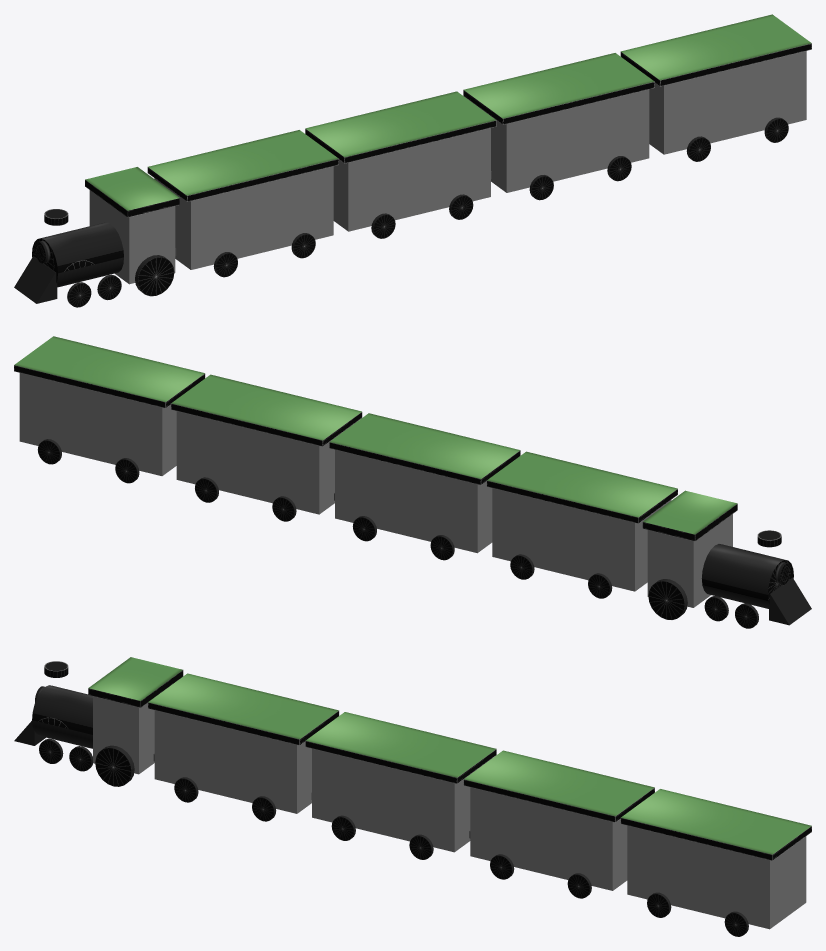
The model's file is voz.obj.
3 views of the same model, one above another, from view 1: azimuth 30°, elevation 25°; view 2: azimuth 150°, elevation 25°; view 3: azimuth 330°, elevation 25° (orthographic).
Parts seen in each view (by area): view 1: pCube4, pCube10, pCube13, pCube7, pCube11, pCube5, pCube8, pCube14, pCylinder1, pCube1, pCube2, pCube3 (+1 smaller); view 2: pCube10, pCube13, pCube7, pCube4, pCube5, pCube11, pCube8, pCube14, pCube1, pCylinder1, pCube2, pCube3 (+1 smaller); view 3: pCube13, pCube7, pCube4, pCube10, pCube8, pCube14, pCube5, pCube11, pCube1, pCylinder1, pCube2, pCylinder8.
Part boxes in pixels (x1,y1,x2,y2): pCube4: [154, 166, 333, 269]; pCube10: [491, 89, 649, 192]; pCube13: [649, 51, 806, 154]; pCube7: [333, 128, 490, 231]; pCube11: [463, 53, 654, 124]; pCube5: [147, 130, 338, 201]; pCube8: [305, 91, 496, 163]; pCube14: [620, 14, 811, 86]; pCylinder1: [32, 222, 123, 287]; pCube1: [89, 190, 175, 284]; pCube2: [85, 167, 179, 217]; pCube3: [14, 256, 57, 303]; pCube10: [176, 411, 334, 514]; pCube13: [19, 373, 176, 475]; pCube7: [335, 449, 492, 553]; pCube4: [492, 488, 671, 591]; pCube5: [486, 451, 677, 523]; pCube11: [171, 374, 362, 446]; pCube8: [329, 413, 520, 485]; pCube14: [14, 336, 205, 408]; pCube1: [647, 514, 732, 607]; pCylinder1: [701, 544, 793, 608]; pCube2: [642, 490, 737, 541]; pCube3: [769, 577, 811, 625]; pCube13: [627, 825, 806, 929]; pCube7: [312, 748, 470, 852]; pCube4: [154, 710, 311, 813]; pCube10: [470, 787, 627, 890]; pCube8: [305, 712, 496, 783]; pCube14: [620, 789, 811, 860]; pCube5: [148, 673, 339, 745]; pCube11: [463, 750, 654, 822]; pCube1: [93, 696, 154, 774]; pCylinder1: [32, 685, 92, 748]; pCube2: [88, 657, 183, 707]; pCylinder8: [95, 745, 134, 786].
Size of the model in its own units: 62.43 by 7.07 by 6.48.
8 materials, 6 textured.
